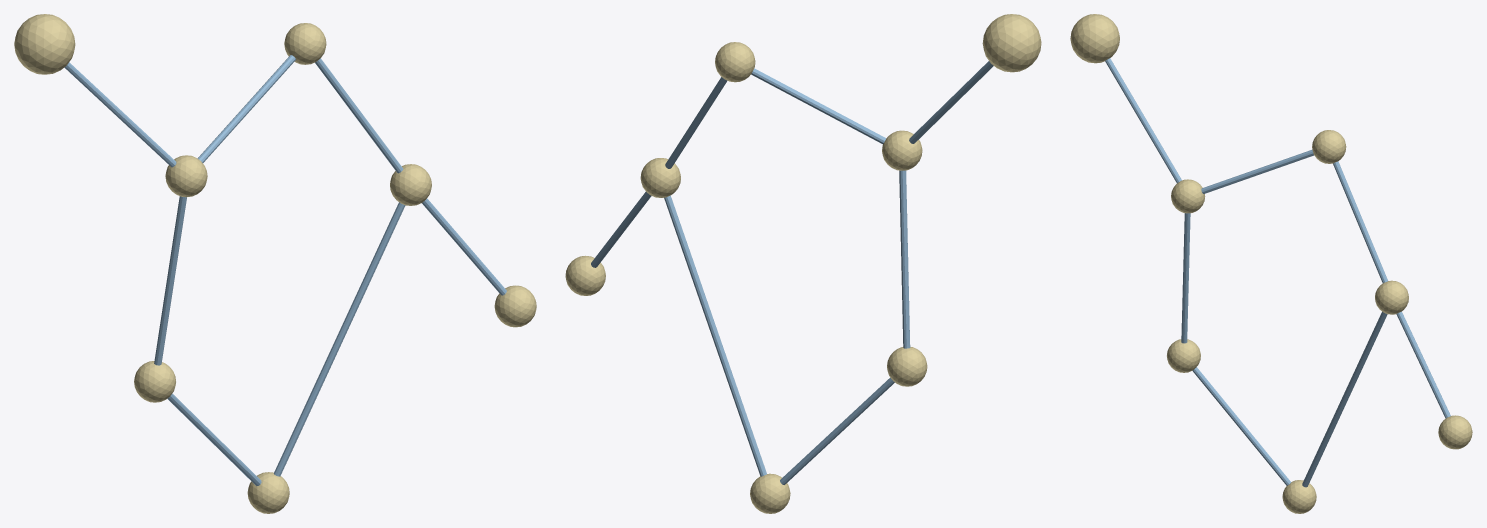
The model's file is virgem.glb.
3 renders of one model, left to right at view 1: azimuth 30°, elevation 25°; view 2: azimuth 150°, elevation 25°; view 3: azimuth 330°, elevation 25°, orthographic. The views are drawn at different scales.
Parts seen in each view (by area): view 1: world; view 2: world; view 3: world.
Part boxes in pixels (bbox=[...]): world: bbox=[14, 14, 536, 513]; world: bbox=[565, 14, 1041, 513]; world: bbox=[1070, 14, 1472, 513].
Size of the model in its own units: 2.75 by 2.95 by 0.4614.
